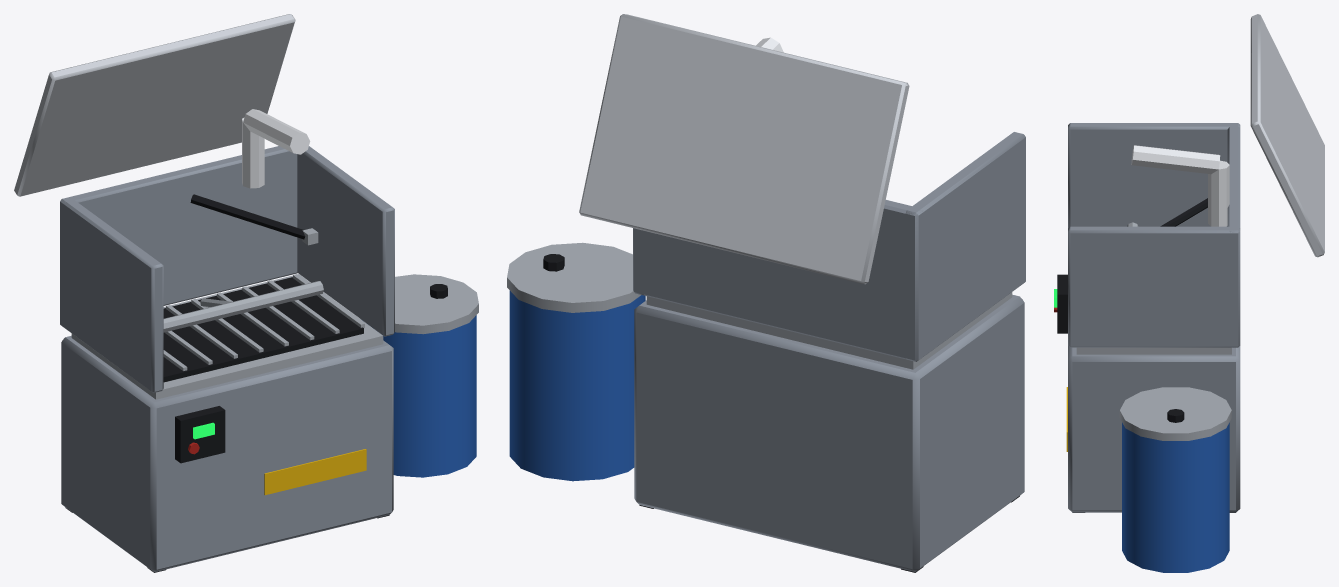
Rendered from hangartool_parts_washer.glb.
3 renders of one model, left to right at view 1: azimuth 30°, elevation 25°; view 2: azimuth 150°, elevation 25°; view 3: azimuth 270°, elevation 25°, orthographic. The views are drawn at different scales.
Visible parts, largest first — view 1: hangartool_parts_washer; view 2: hangartool_parts_washer; view 3: hangartool_parts_washer.
Boxes of the visible parts, bbox=[...] form: hangartool_parts_washer: bbox=[14, 14, 478, 572]; hangartool_parts_washer: bbox=[507, 14, 1025, 572]; hangartool_parts_washer: bbox=[1054, 14, 1324, 572].
Bounding box in the file's own units: 1.85 × 2.01 × 1.26.
